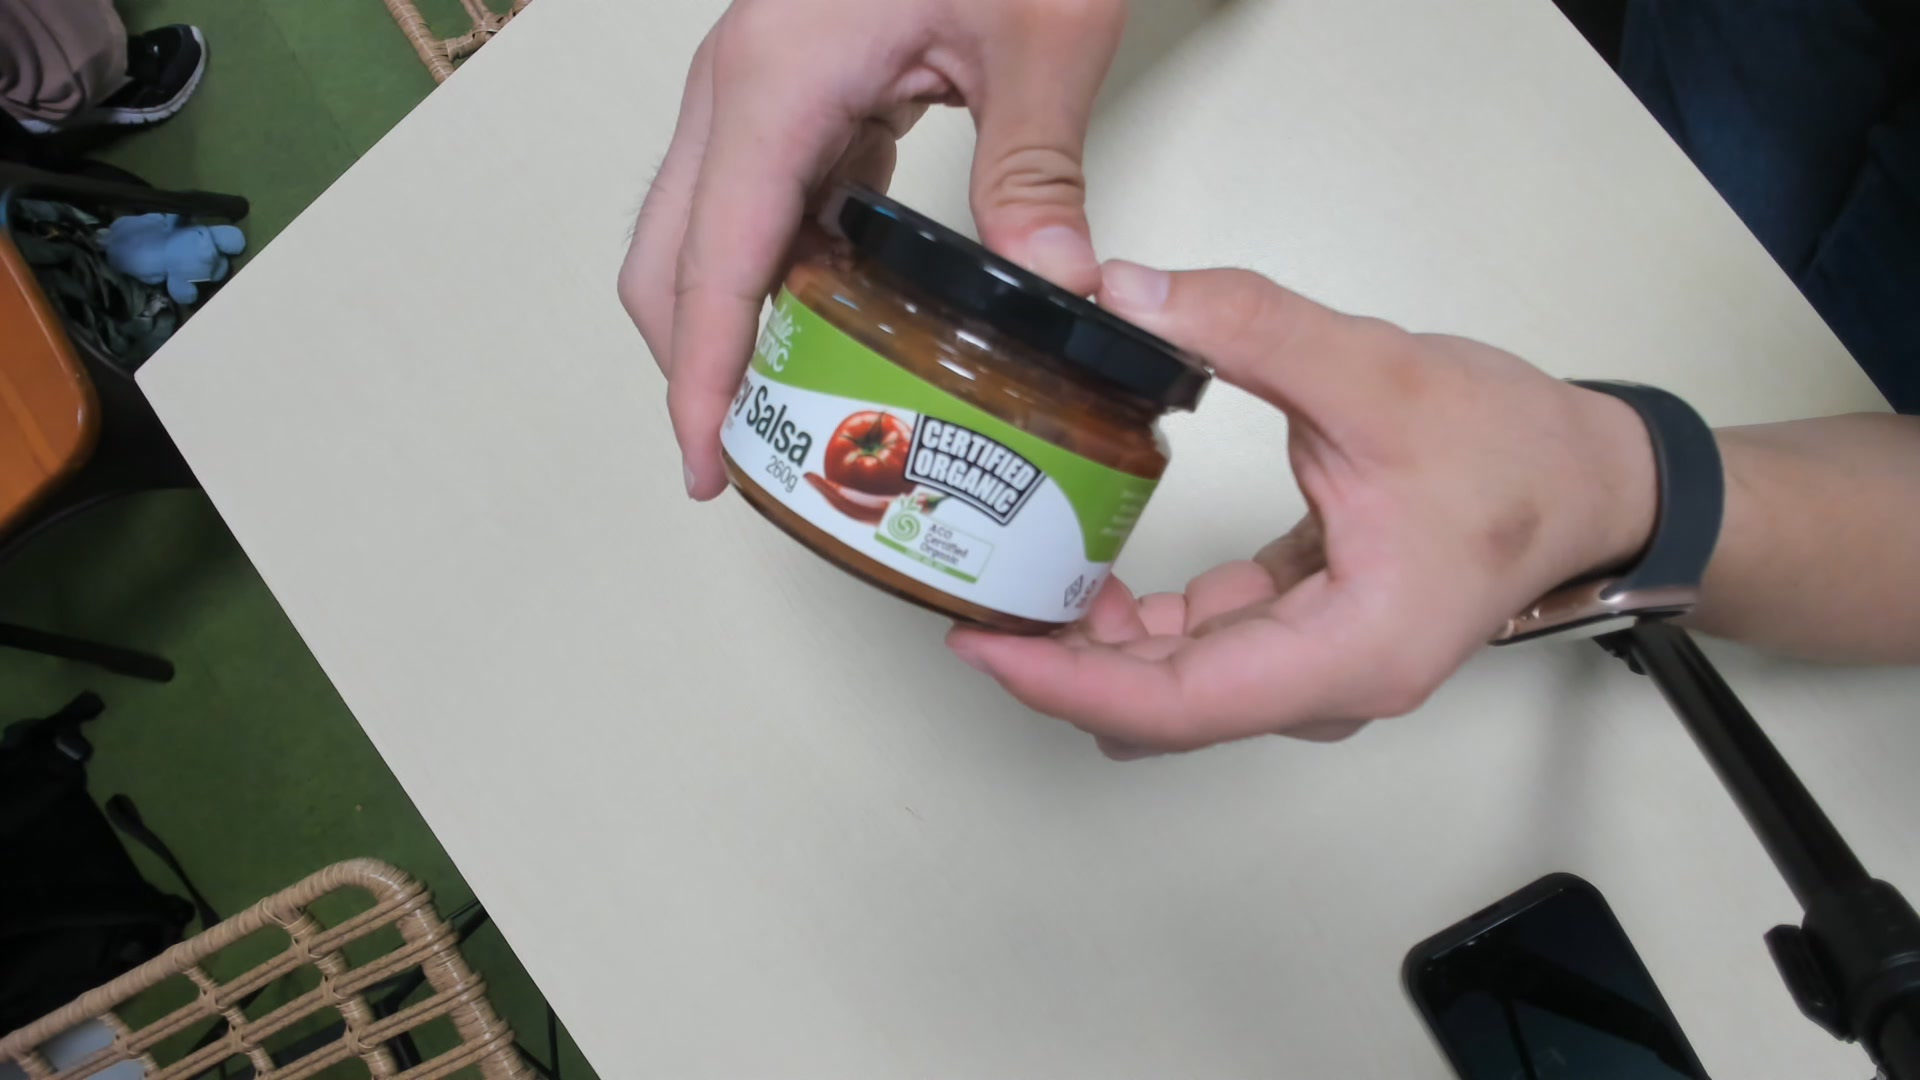OtherSauceDressing_200-299g_NonHalal_NonHealthy: (719, 171, 1211, 646)
